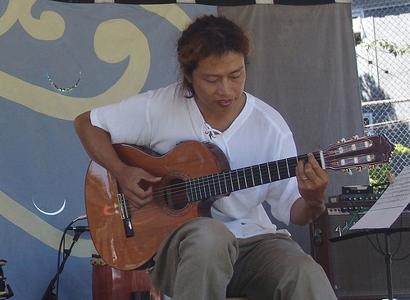person: (75, 16, 339, 299)
